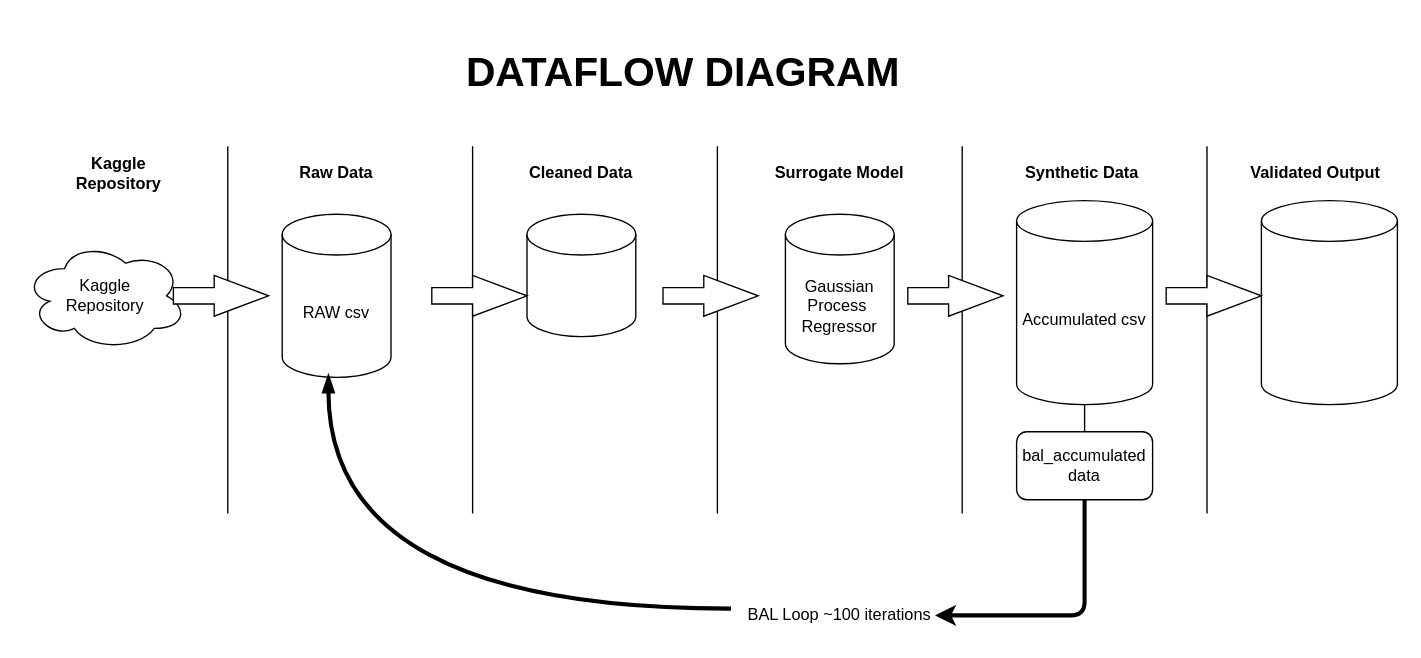
Some shapes in this 1421 by 658 pixel diagram are drawn without their labels. Each missing label, with the centre of its shape:
Cleaned csv: the point at 581,275
Validated 10K Dataset: the point at 1328,302
